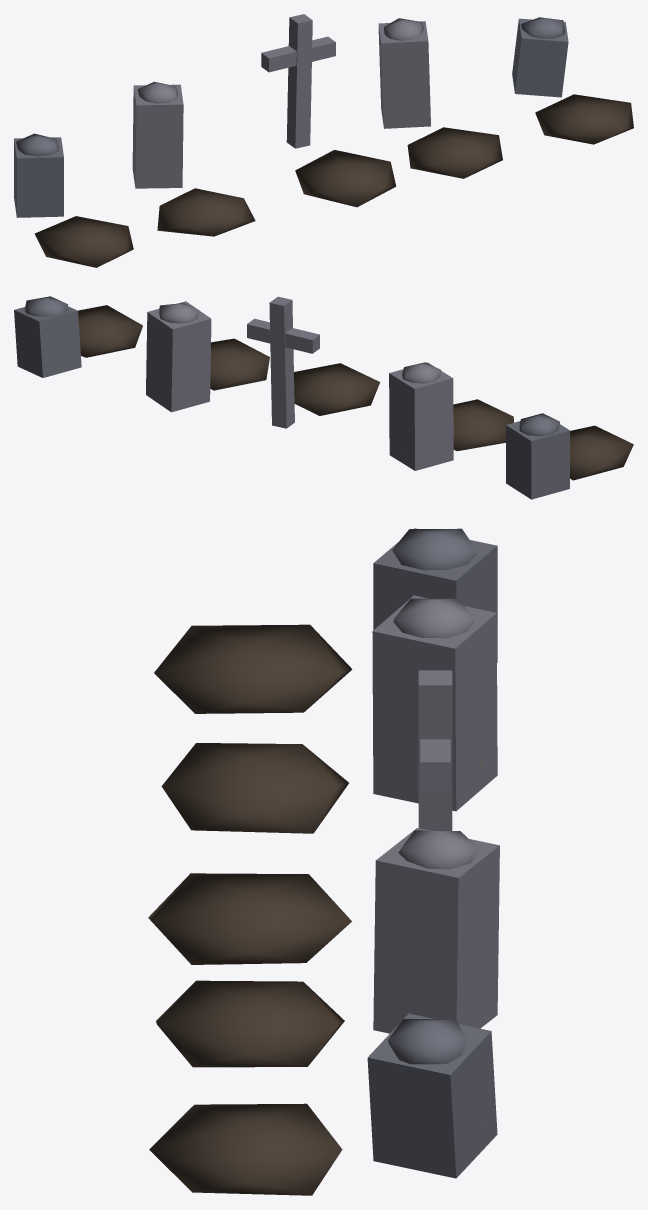
File: gravestones.glb
3 renders of one model, top to bottom at view 1: azimuth 30°, elevation 25°; view 2: azimuth 150°, elevation 25°; view 3: azimuth 270°, elevation 25°, orthographic. The views are drawn at different scales.
Visible parts, largest first — view 1: stone0; view 2: stone0; view 3: stone0.
Part boxes in pixels (<box>): stone0: <box>14,14,633,267</box>; stone0: <box>14,296,633,499</box>; stone0: <box>148,528,499,1195</box>.
Size of the model in its own units: 7.87 by 1.78 by 2.09.
